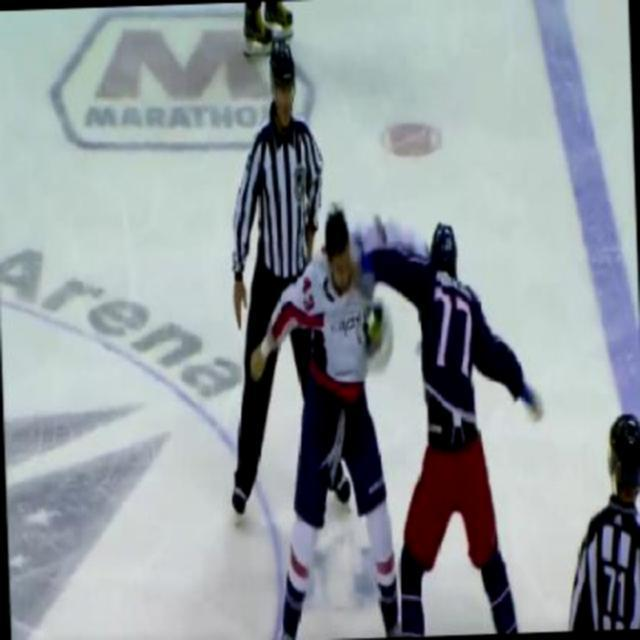fight: (243, 200, 554, 638)
